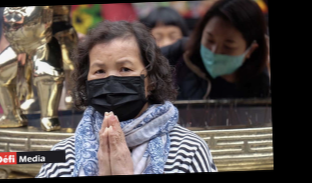with_mask: (83, 58, 149, 122), (199, 27, 246, 79)
